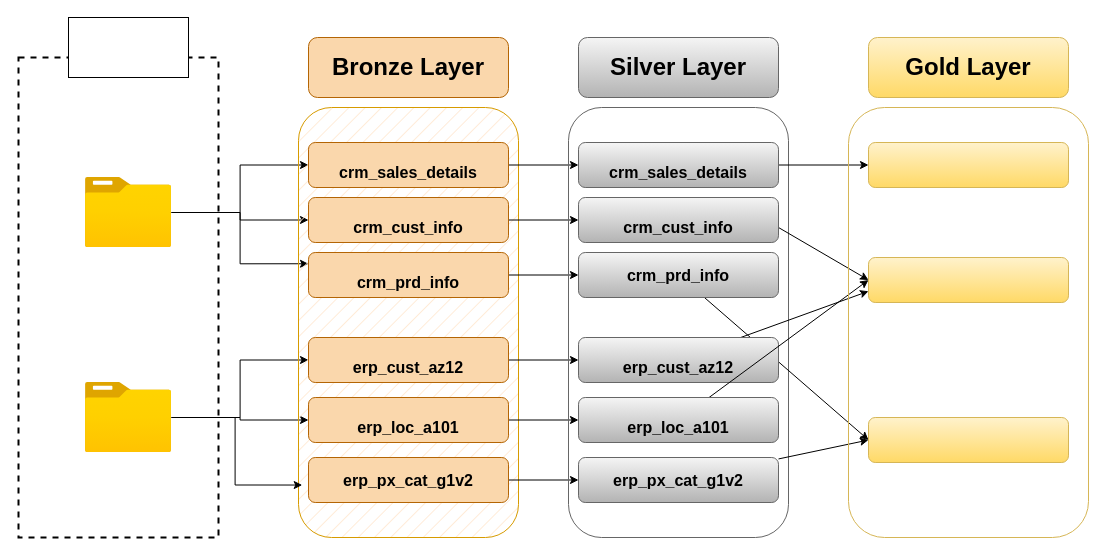
The diagram is 1106 pixels wide and 556 high, and some of its shapes have lost their labels. The box of each missing label's shape, as (x1, y1, x2, y2) in pixels:
CRM: (85, 177, 171, 247)
dim_customers: (868, 256, 1068, 302)
dim_products: (868, 416, 1068, 462)
ERP: (85, 382, 171, 452)
fact_sales: (868, 142, 1068, 188)
Sourcers: (68, 16, 188, 78)
